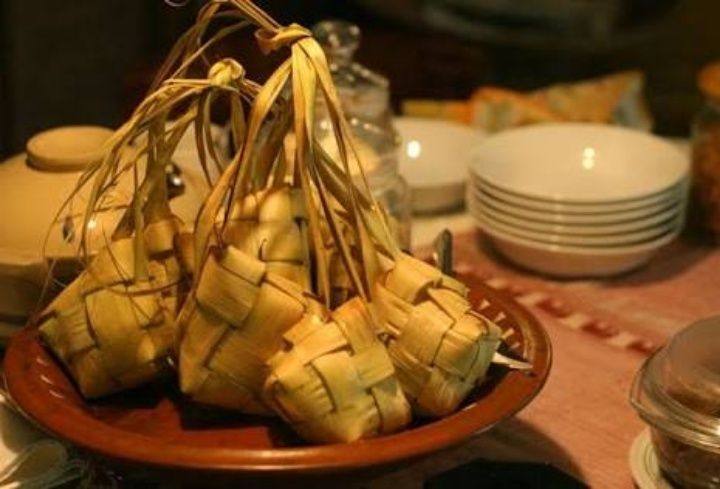ketupat: (37, 237, 175, 396), (264, 297, 410, 443), (372, 266, 503, 418)
